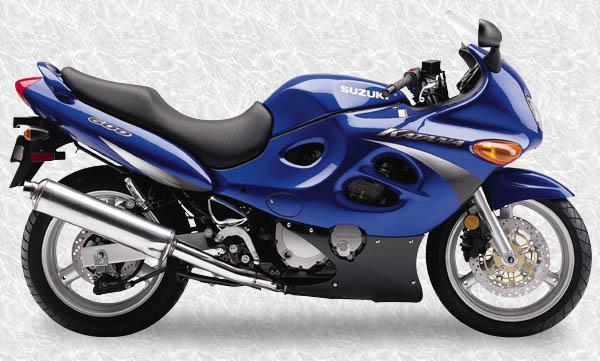Motorcycle: (6, 0, 598, 351)
